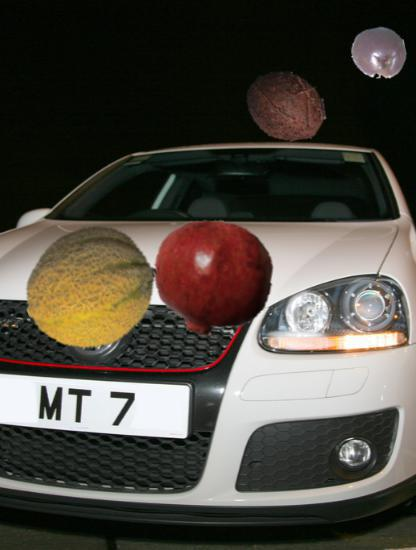Cantaloupe: (23, 221, 158, 356)
Cocos: (243, 64, 328, 149)
Passion: (351, 26, 407, 82)
Pomegranate: (152, 217, 274, 339)
